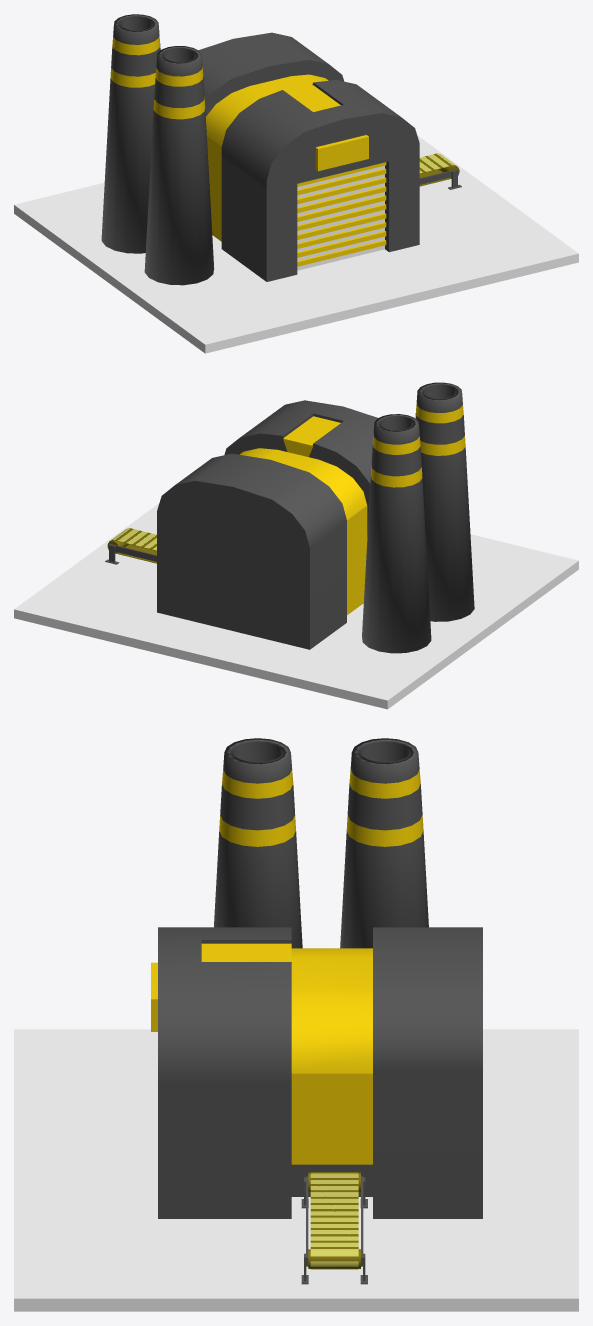
The model's file is Factory.fbx.
The picture shows the model from 3 angles, top to bottom: view 1: azimuth 30°, elevation 25°; view 2: azimuth 150°, elevation 25°; view 3: azimuth 270°, elevation 25°; orthographic projection. The views are drawn at different scales.
Visible parts, largest first — view 1: Factory Floor, Factory Base, Factory Door, Belt; view 2: Factory Floor, Factory Base, Belt; view 3: Factory Floor, Factory Base, Belt.
Boxes of the visible parts, x1,y1,x2,y2 form: Factory Floor: (101, 14, 419, 285); Factory Base: (14, 135, 578, 353); Factory Door: (297, 162, 386, 270); Belt: (419, 153, 461, 189); Factory Floor: (157, 382, 474, 653); Factory Base: (14, 503, 578, 709); Belt: (105, 528, 156, 564); Factory Floor: (151, 738, 482, 1218); Factory Base: (14, 1029, 578, 1311); Belt: (301, 1172, 367, 1284).
Size of the model in its own units: 321 by 184 by 284.
2 materials, 2 textured.
